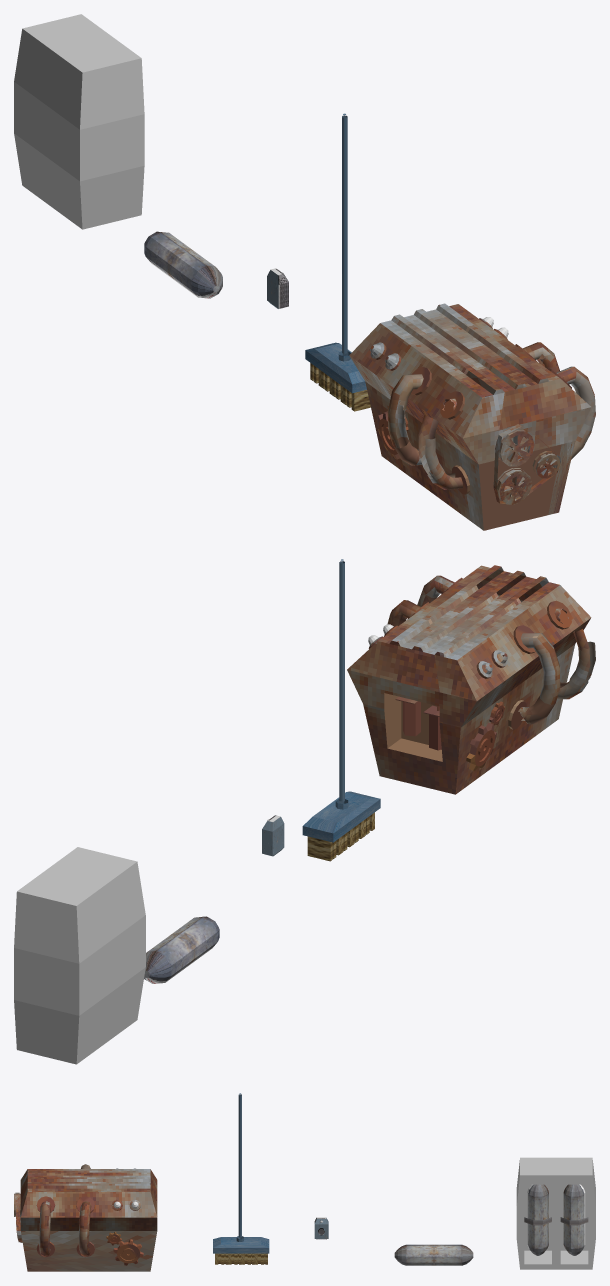
File: interagiveis-gamejam.fbx
The picture shows the model from 3 angles, top to bottom: view 1: azimuth 30°, elevation 25°; view 2: azimuth 150°, elevation 25°; view 3: azimuth 270°, elevation 25°; orthographic projection. The views are drawn at different scales.
Parts seen in each view (by area): view 1: BezierCurve, Cube.004, Cube, Cylinder.013, Cube.002; view 2: BezierCurve, Cube.004, Cube, Cylinder.013, Cube.002; view 3: BezierCurve, Cube.004, Cylinder.011, Cube, Cylinder.013, Cube.002.
Part boxes in pixels (box(x1,y1,x2,y2)): BezierCurve: box(349, 303, 595, 530); Cube.004: box(14, 14, 144, 229); Cube: box(305, 113, 370, 411); Cylinder.013: box(144, 231, 222, 298); Cube.002: box(267, 268, 288, 308); BezierCurve: box(347, 565, 595, 794); Cube.004: box(14, 847, 145, 1064); Cube: box(302, 559, 380, 861); Cylinder.013: box(144, 916, 219, 983); Cube.002: box(262, 815, 284, 856); BezierCurve: box(14, 1164, 157, 1271); Cube.004: box(516, 1157, 595, 1269); Cylinder.011: box(524, 1184, 588, 1255); Cube: box(213, 1093, 269, 1264); Cylinder.013: box(394, 1244, 473, 1265); Cube.002: box(314, 1217, 328, 1239).
Bounding box in the file's own units: 641 × 993 × 3056.
